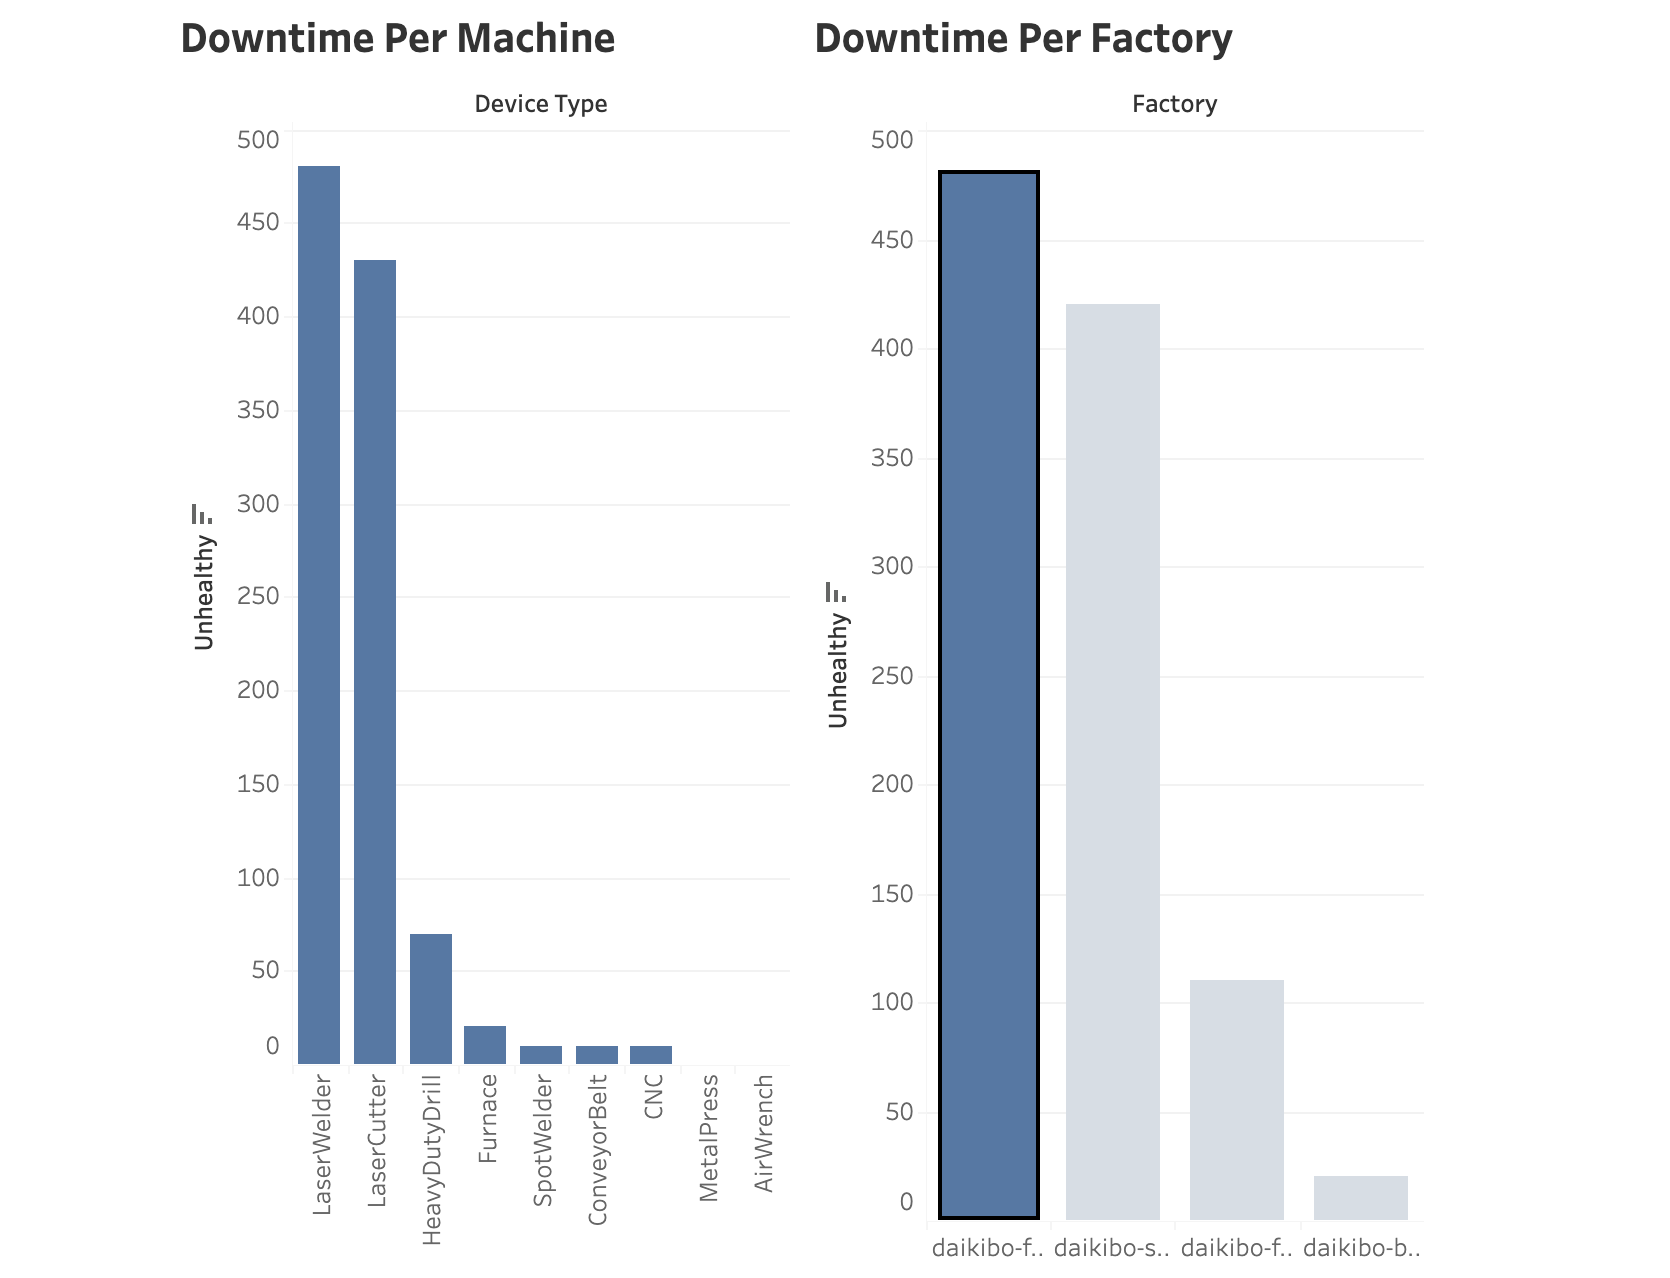

Layout of this report page (visuals, bound fields, positions):
{"tool":"tableau","page":{"name":"Dashboard 1","canvas":[650,860],"ordinal":0},"visuals":[{"type":"worksheet","title":"Sheet 2","mark":"Automatic","rows":["Calculation_1097611739223744512"],"cols":["deviceType"],"box":[8,8.9,317,842.1]},{"type":"worksheet","title":"Sheet 1","mark":"Automatic","rows":["Calculation_1097611739223744512"],"cols":["factory"],"box":[325,8.9,317,842.1]}]}

Visuals, with their boxes on the page's 650x860 design canvas (x1, y1, x2, y2). These are canvas units, not pixel positions in the 1670x1278 screenshot, which may show the page scaled, cropped or inside an application window:
"Sheet 2" worksheet: 8 9 325 851
"Sheet 1" worksheet: 325 9 642 851
